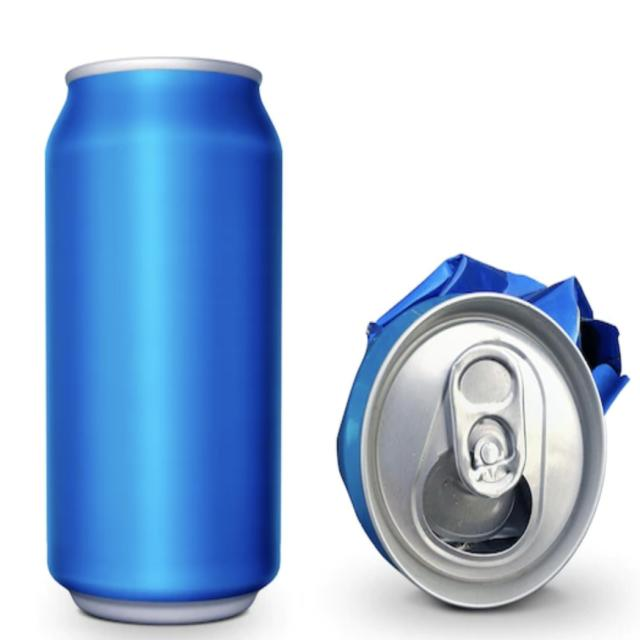recyclable: (34, 47, 294, 634), (326, 239, 635, 615)
